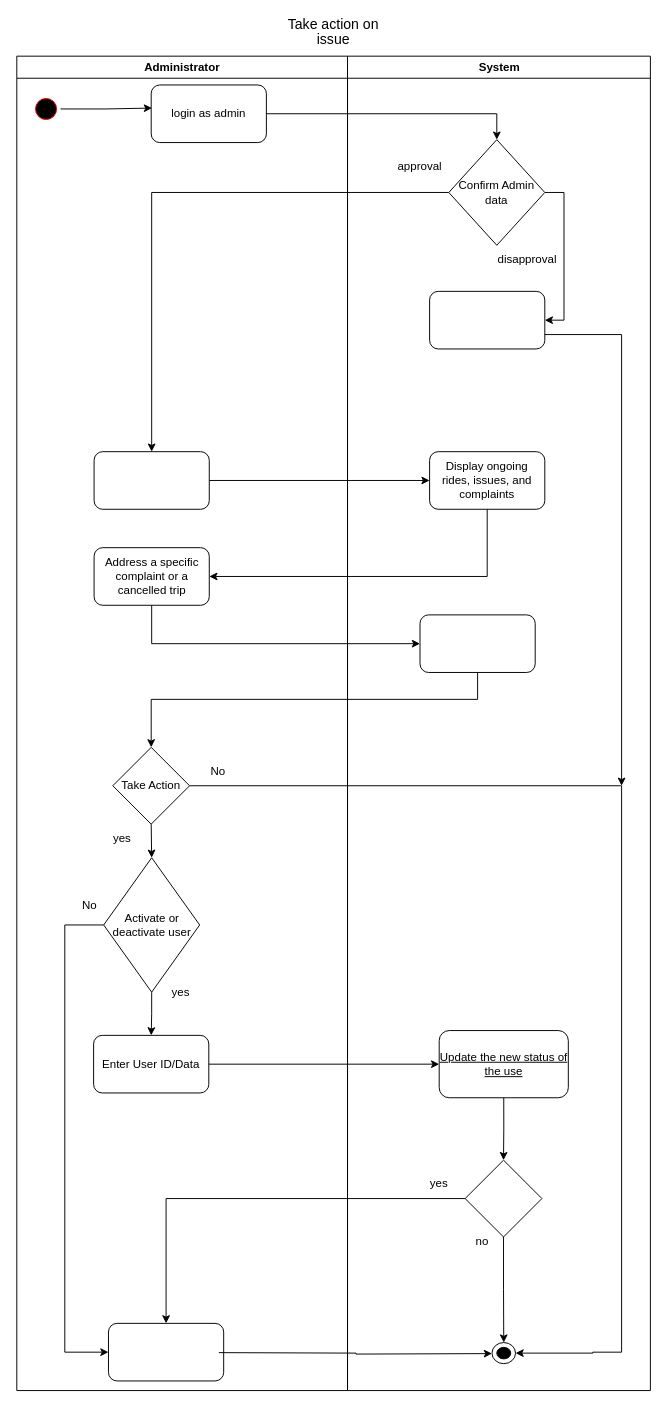
Some shapes in this 667 by 1407 pixel diagram are drawn without their labels. Here are the shapes that lost their labels. From the top down, the centre of each, then its label:
point (487, 319): Prohibit Access
point (151, 480): Monitor and checks complaints and logs inbox
point (477, 643): Display full details
point (503, 1198): Edit user info
point (166, 1351): Edit user information
